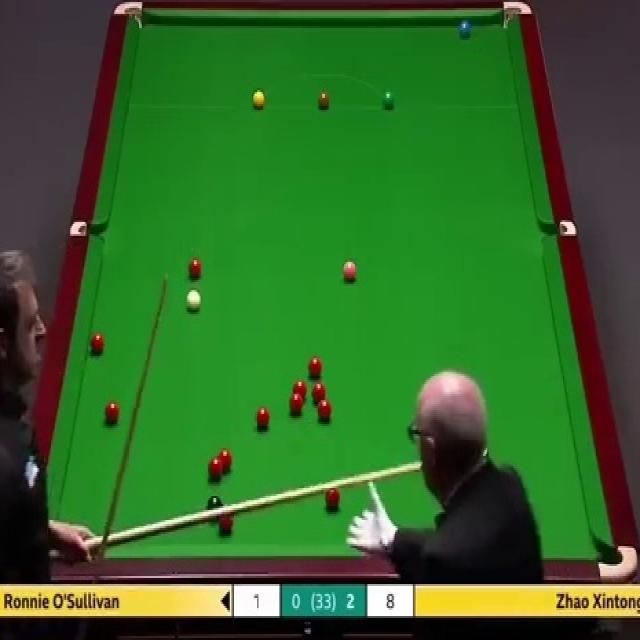pocket: (596, 543, 636, 585), (108, 0, 144, 34), (500, 0, 532, 34), (540, 218, 579, 237), (69, 220, 103, 237)
